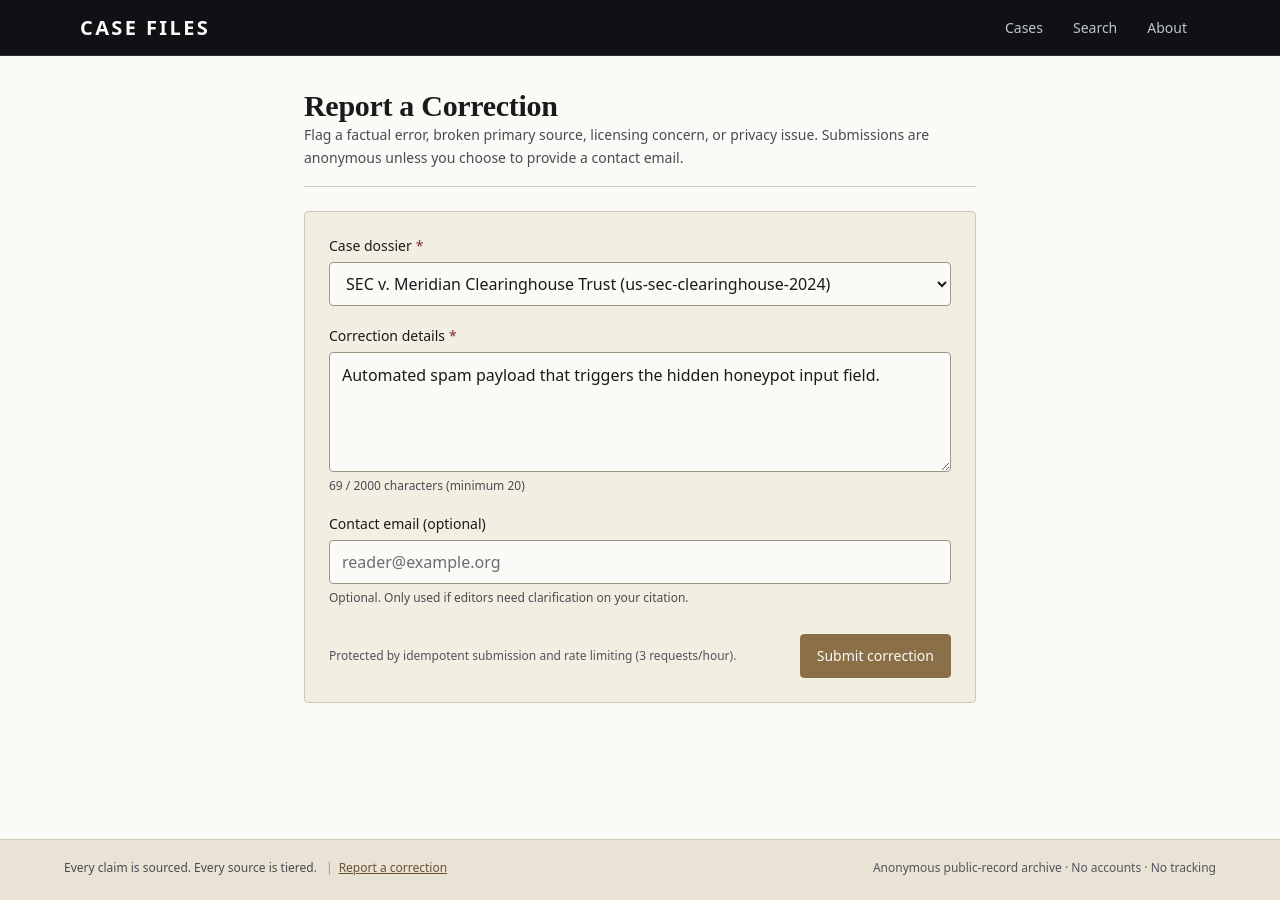
Test: Reader routes › CorrectionForm handles honeypot fill silently with identical 202 confirmation UX
The width and height of the screenshot is (1280, 900).
Earlier steps of the test are not shown.
Click the button "Submit correction": click(875, 656) [800, 634, 951, 678]
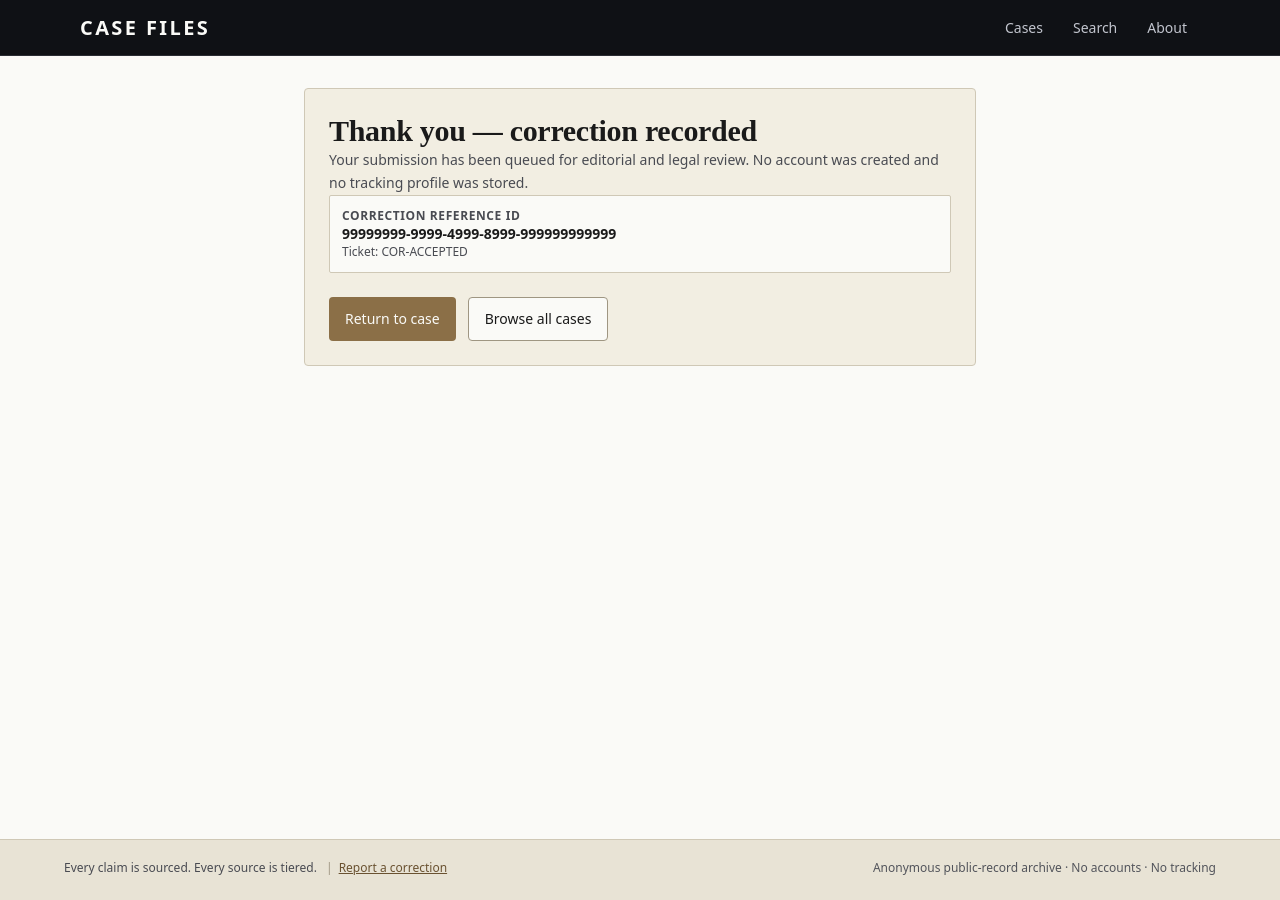
Check: the heading "Thank you — correction recorded" is shown, box [329, 114, 757, 147]
Check: the text with test id "correction-id" reads "99999999-9999-4999-8999-999999999999", box [342, 224, 616, 242]
